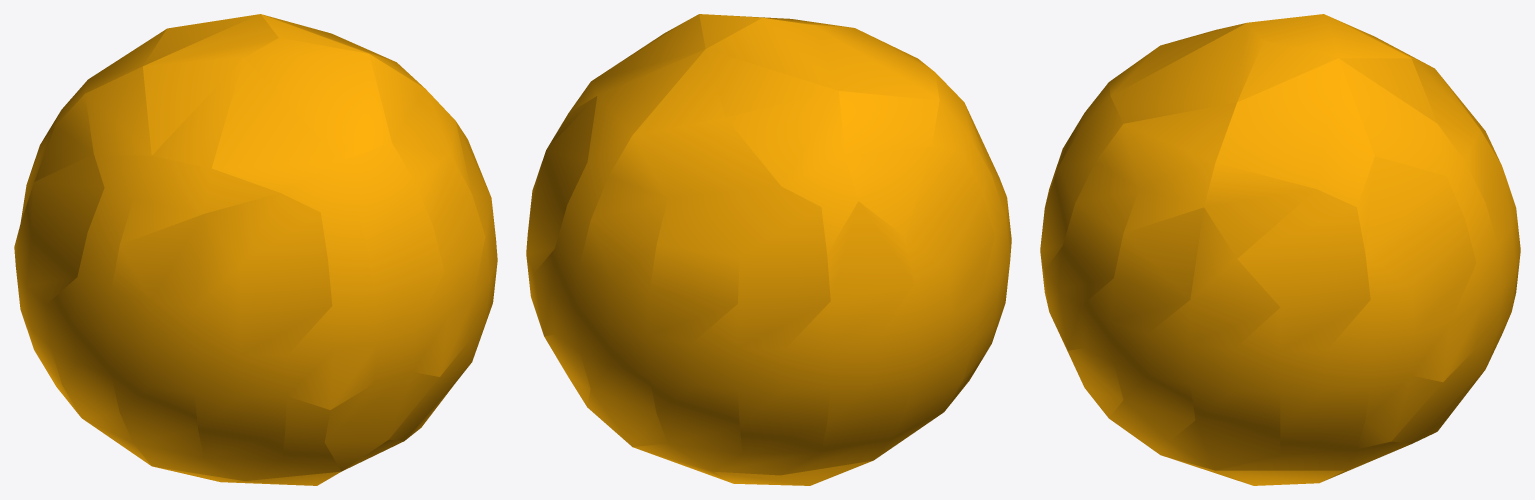
The picture shows the model from 3 angles, left to right: view 1: azimuth 30°, elevation 25°; view 2: azimuth 150°, elevation 25°; view 3: azimuth 270°, elevation 25°; orthographic projection.
Parts seen in each view (by area): view 1: Sphere; view 2: Sphere; view 3: Sphere.
Boxes of the visible parts, <box> form: Sphere: <box>14,14,497,485</box>; Sphere: <box>526,14,1011,485</box>; Sphere: <box>1040,14,1520,485</box>.
Size of the model in its own units: 78.74 by 77.79 by 78.74.
